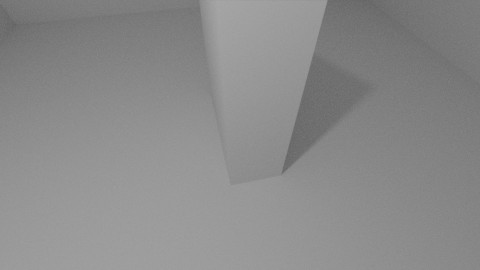cheminee: (199, 1, 328, 186)
